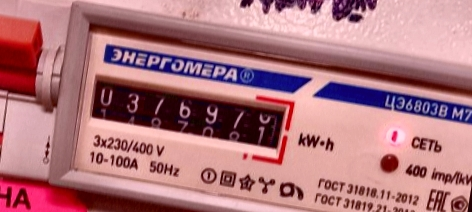0: (95, 83, 114, 107)
1: (252, 123, 264, 146)
3: (123, 91, 139, 113)
6: (174, 95, 193, 120)
7: (228, 104, 245, 129), (149, 92, 166, 116)
9: (201, 101, 218, 125)
screen: (74, 64, 297, 168)
